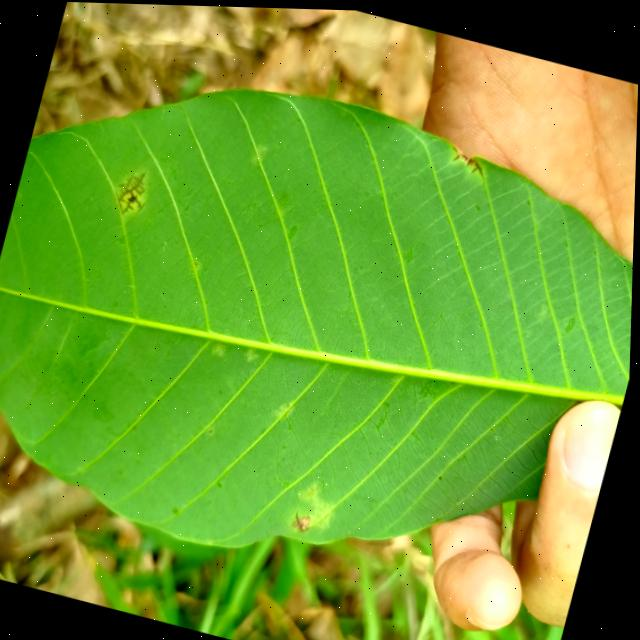Corynespora: (112, 166, 152, 218), (449, 145, 488, 176), (291, 507, 313, 533)
